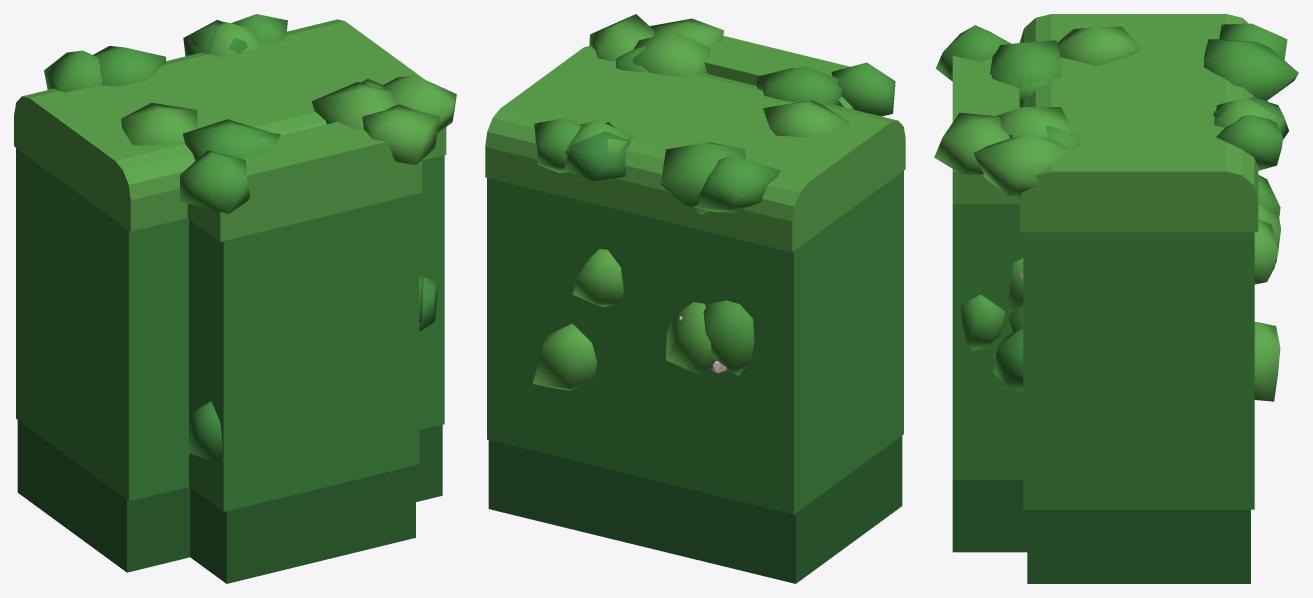
File: hedge_t.glb
The picture shows the model from 3 angles, left to right: view 1: azimuth 30°, elevation 25°; view 2: azimuth 150°, elevation 25°; view 3: azimuth 270°, elevation 25°; orthographic projection. The views are drawn at different scales.
Parts seen in each view (by area): view 1: hedge_t; view 2: hedge_t; view 3: hedge_t.
Boxes of the visible parts, bbox=[...] form: hedge_t: bbox=[14, 14, 456, 583]; hedge_t: bbox=[485, 14, 905, 583]; hedge_t: bbox=[934, 14, 1298, 583].
Bounding box in the file's own units: 1.03 × 1.3 × 0.9781.
